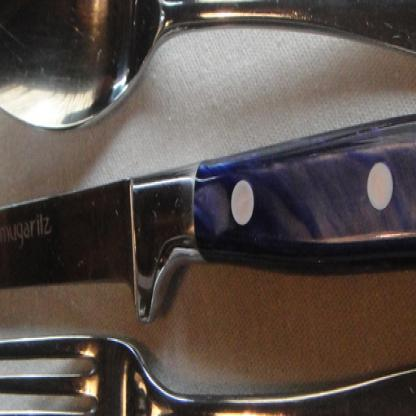knife: (0, 103, 415, 332)
